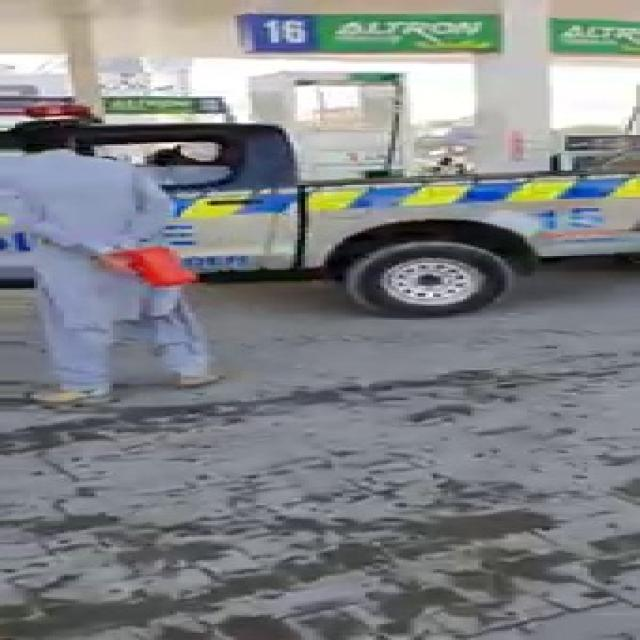police: (14, 24, 622, 381), (0, 39, 640, 309), (549, 0, 640, 1)
